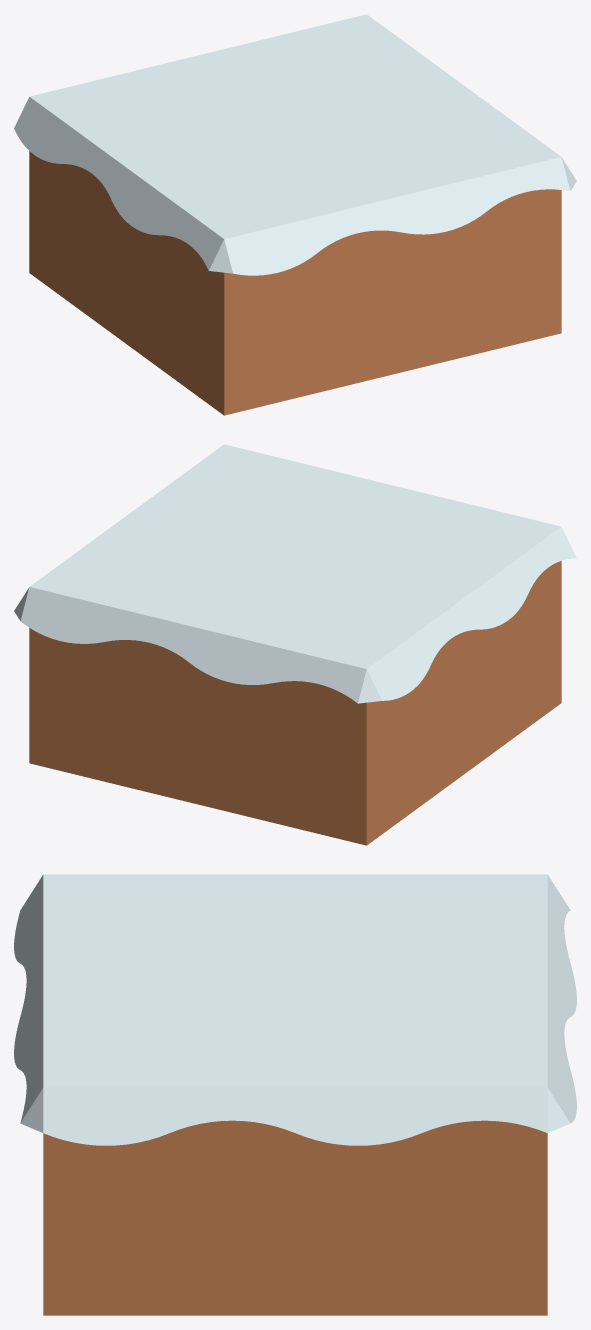
The model's file is blockSnowLarge.dae.
The picture shows the model from 3 angles, top to bottom: view 1: azimuth 30°, elevation 25°; view 2: azimuth 150°, elevation 25°; view 3: azimuth 270°, elevation 25°; orthographic projection. The views are drawn at different scales.
Visible parts, largest first — view 1: blockSnowLarge; view 2: blockSnowLarge; view 3: blockSnowLarge.
Boxes of the visible parts, x1=… form: blockSnowLarge: x1=14, y1=14, x2=576, y2=415; blockSnowLarge: x1=14, y1=444, x2=576, y2=845; blockSnowLarge: x1=14, y1=874, x2=576, y2=1315.
Bounding box in the file's own units: 2.23 × 1 × 2.23.
